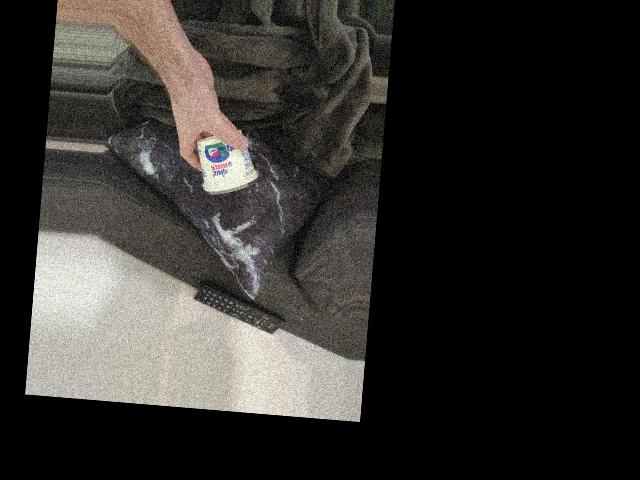cotage: (184, 117, 264, 205)
